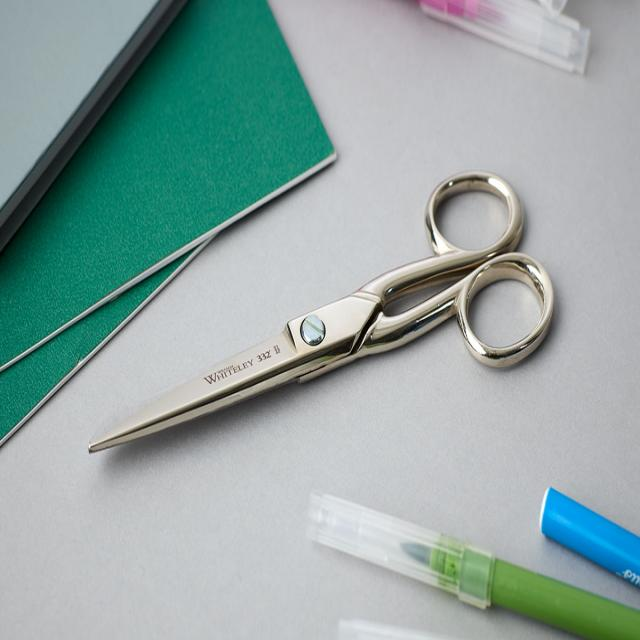scissor: (85, 170, 556, 463)
